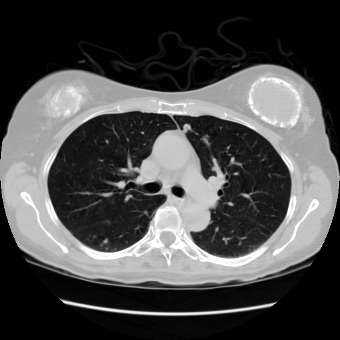nodule: (182, 124, 190, 132)
